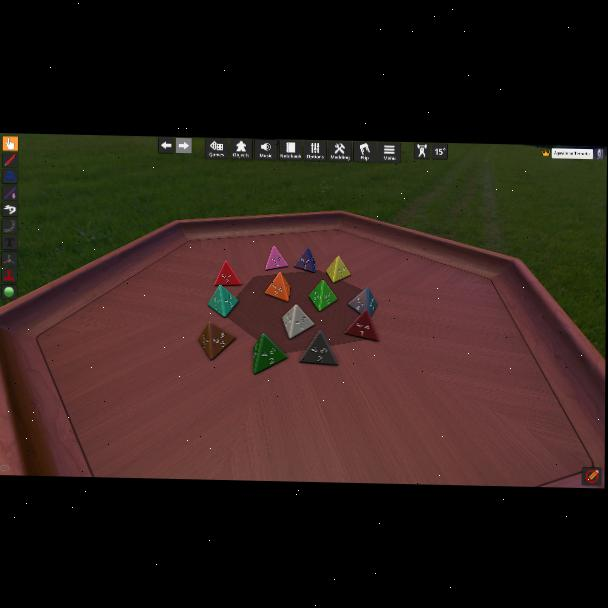d4: (198, 321, 235, 361), (252, 333, 287, 375), (300, 331, 339, 367), (344, 308, 379, 342), (282, 304, 314, 340), (208, 284, 239, 318), (308, 279, 337, 312), (348, 286, 375, 318), (265, 271, 291, 301), (213, 261, 241, 287), (326, 255, 350, 284), (266, 246, 289, 272), (293, 248, 315, 274)
